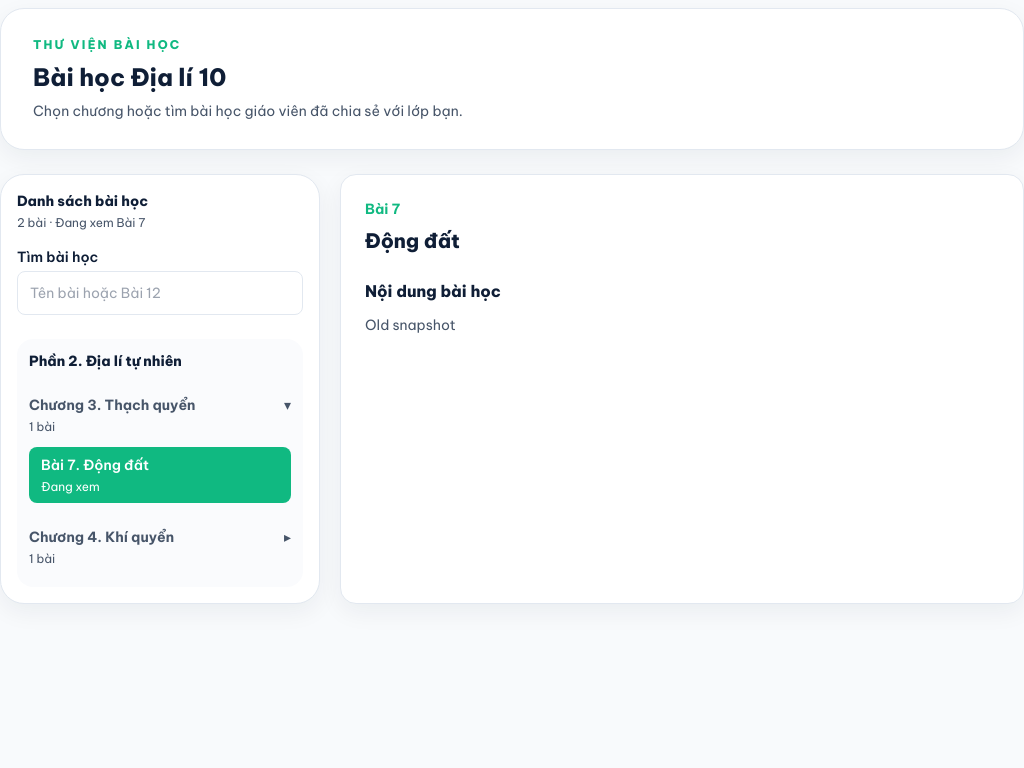
Student Lessons list with Laravel API mock › removes a previous snapshot when the newly selected lesson returns 404
The image size is (1024, 768).
Click the button "Chương 4. Khí quyển 1 bài ▸" at [160, 547], box [29,519,291,575]
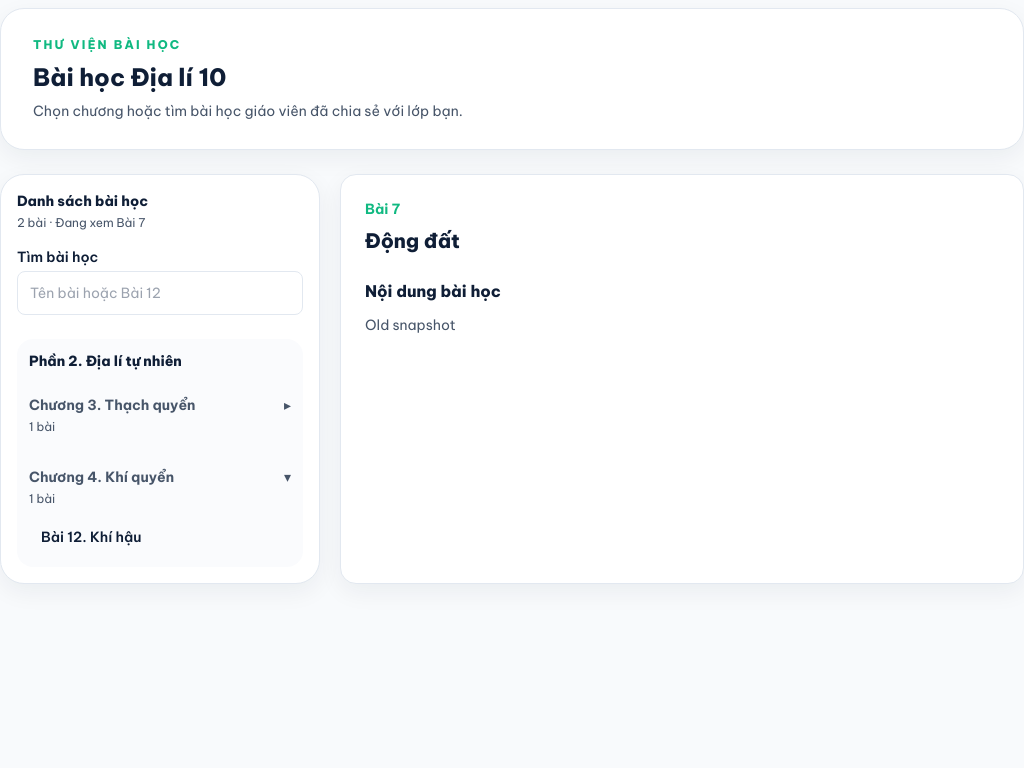
Click the button "Bài 12. Khí hậu" at [116, 537], box [29,519,291,555]
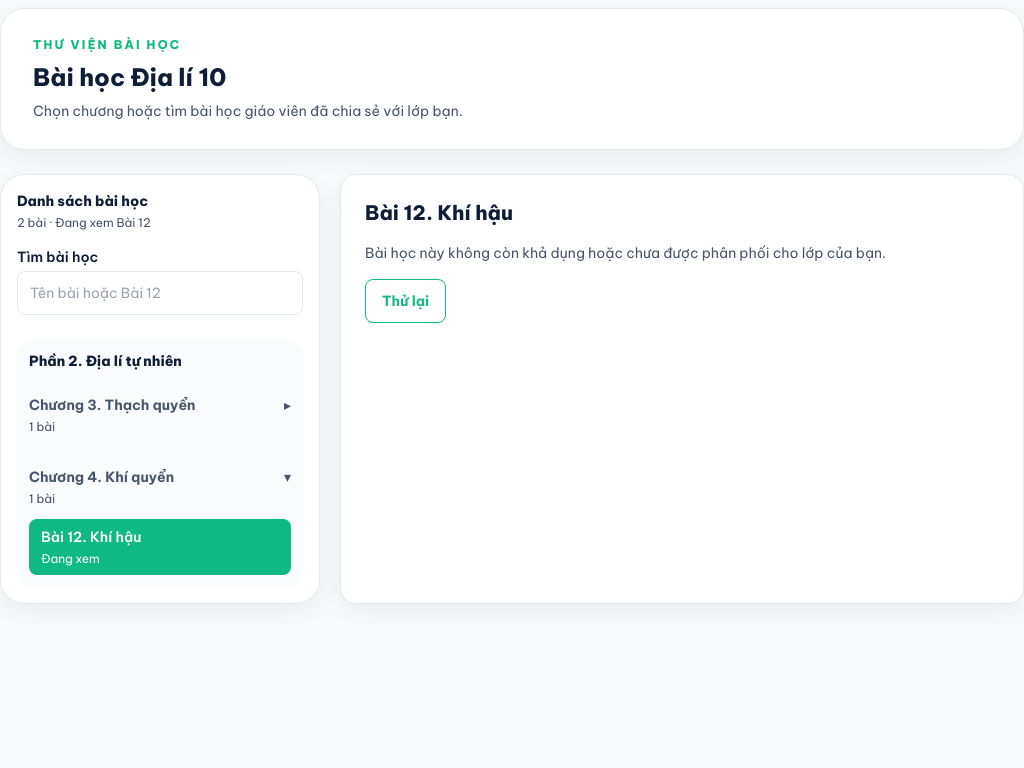
expect the text "Old snapshot" is gone: met
expect the message shows "không còn khả dụng": met, box [365,244,886,262]
